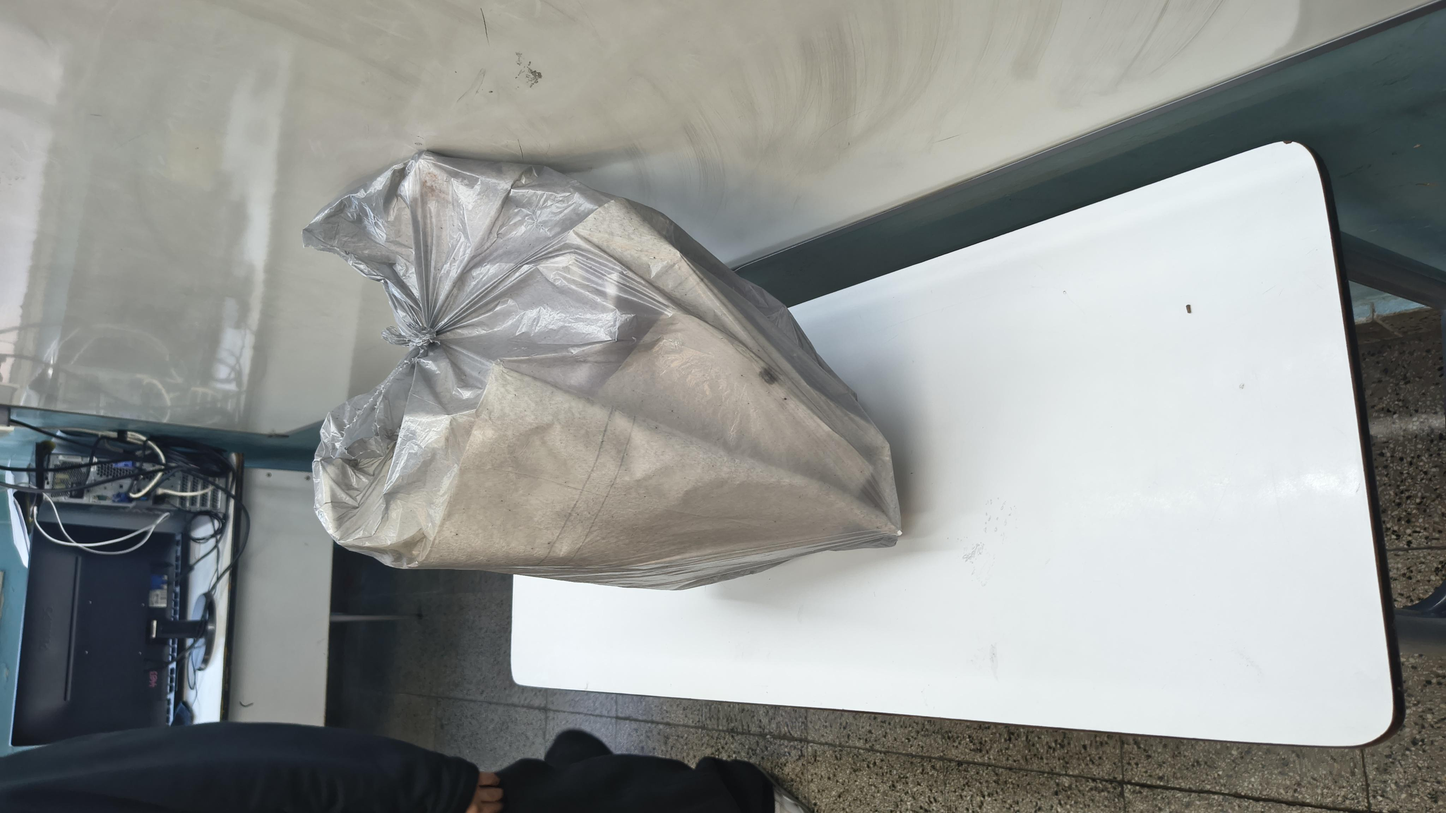Garbage: (326, 153, 1287, 550)
